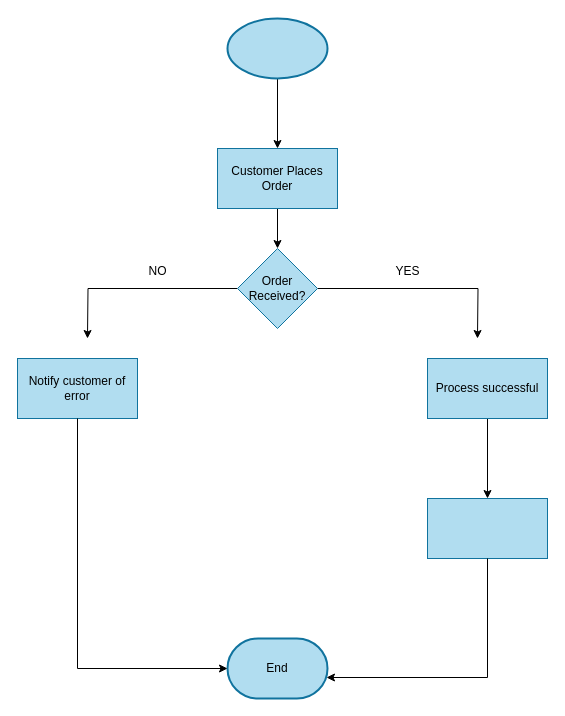
The diagram is 565 pixels wide and 716 high, and some of its shapes have lost their labels. The shapes that lost their labels are listed below. From the top down, each one's box as (x1, y1, x2, y2) in pixels, then its label:
(226, 17, 328, 79): Start
(426, 498, 548, 558): Prepare shipment
